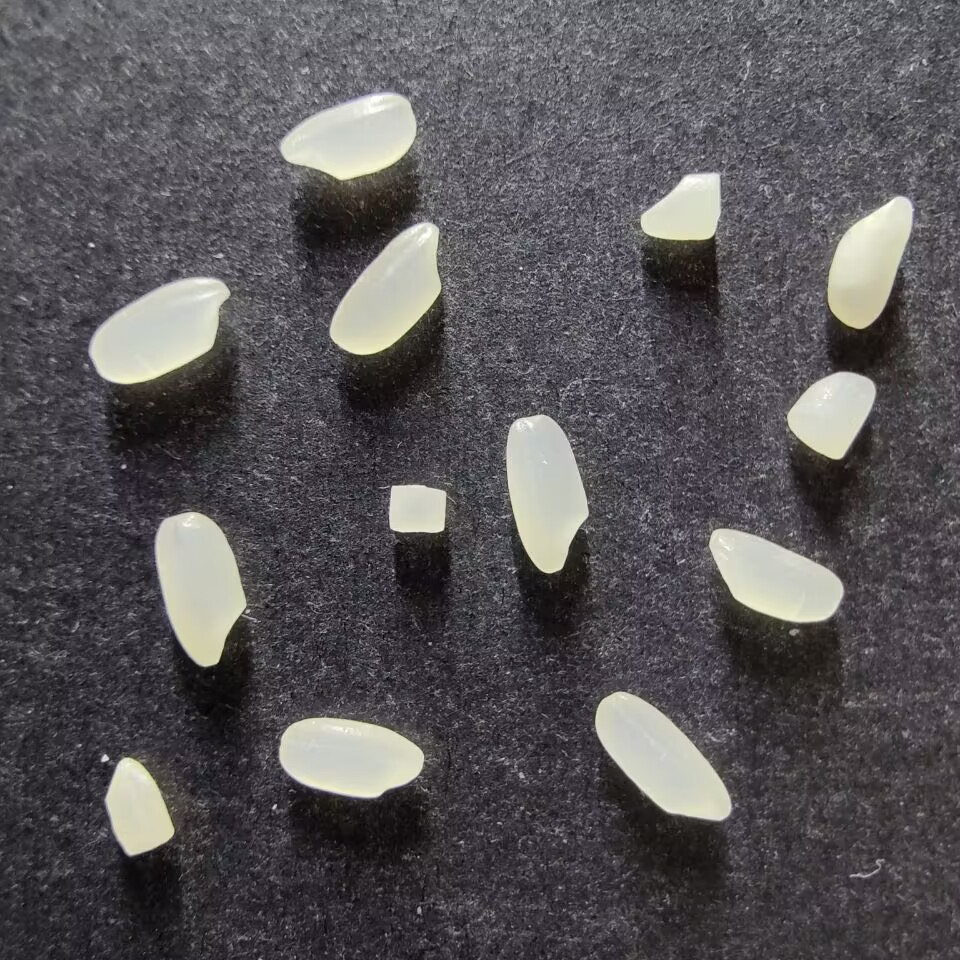broken: (786, 370, 876, 460), (104, 756, 173, 857), (638, 169, 721, 241), (387, 483, 446, 534)
rice: (593, 690, 732, 822), (328, 220, 441, 355), (88, 276, 229, 384), (154, 511, 246, 666), (504, 414, 589, 574), (708, 526, 845, 624), (279, 93, 415, 180), (278, 717, 423, 797)
